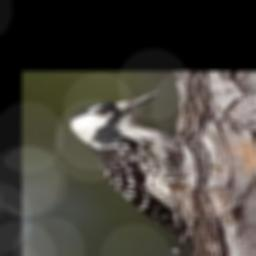Woodpecker: (64, 89, 198, 235)
